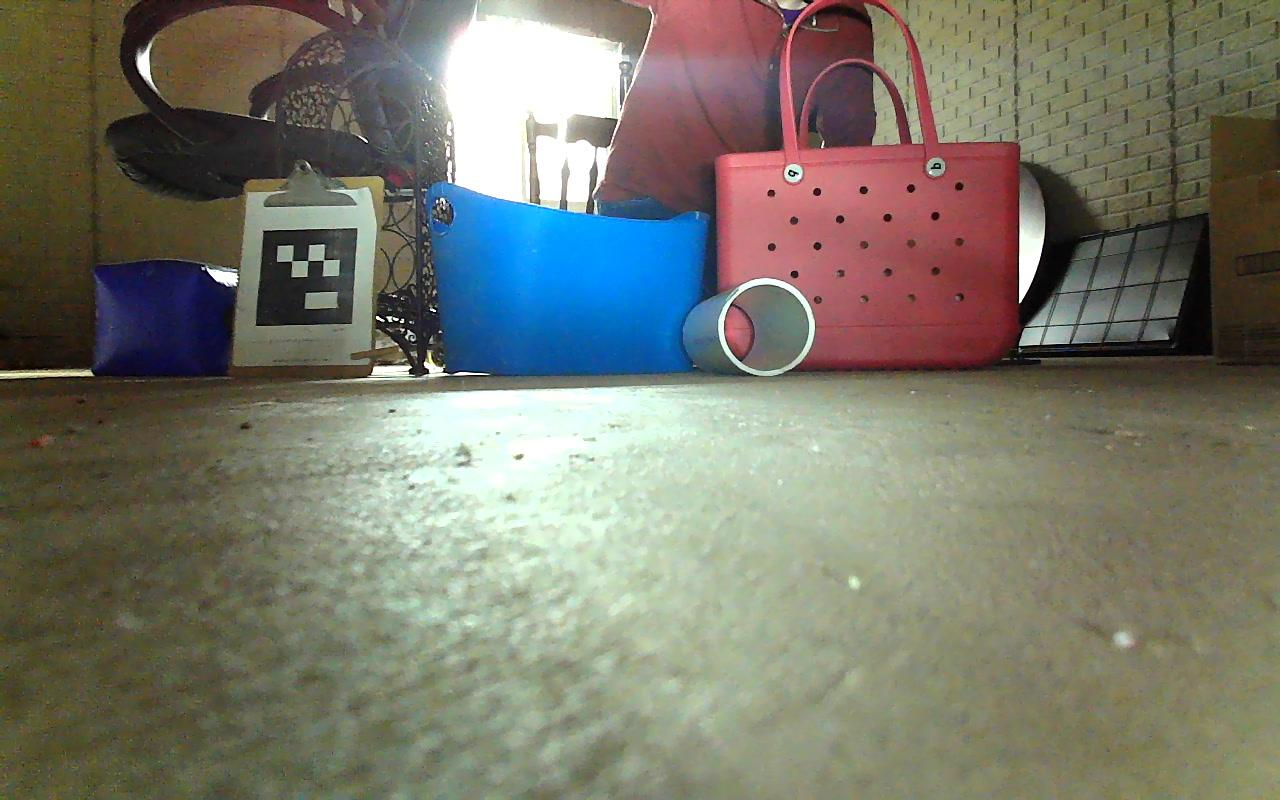coral: (682, 276, 815, 376)
